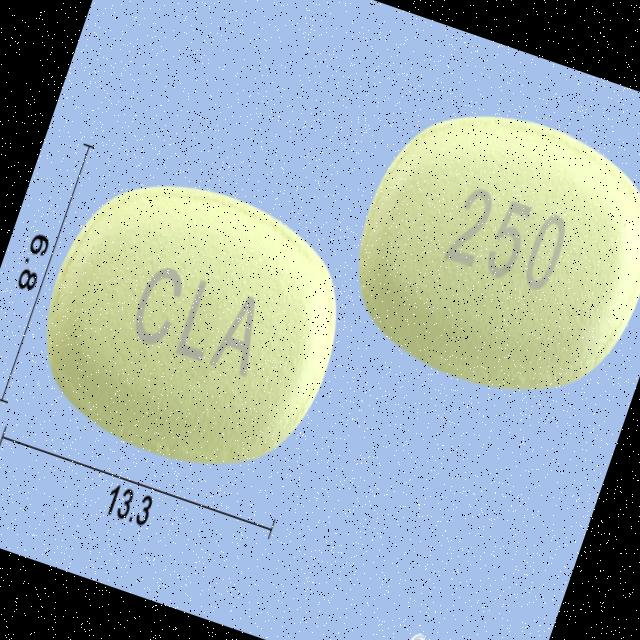Clar - 500mg: (9, 140, 378, 503), (322, 71, 640, 429)
